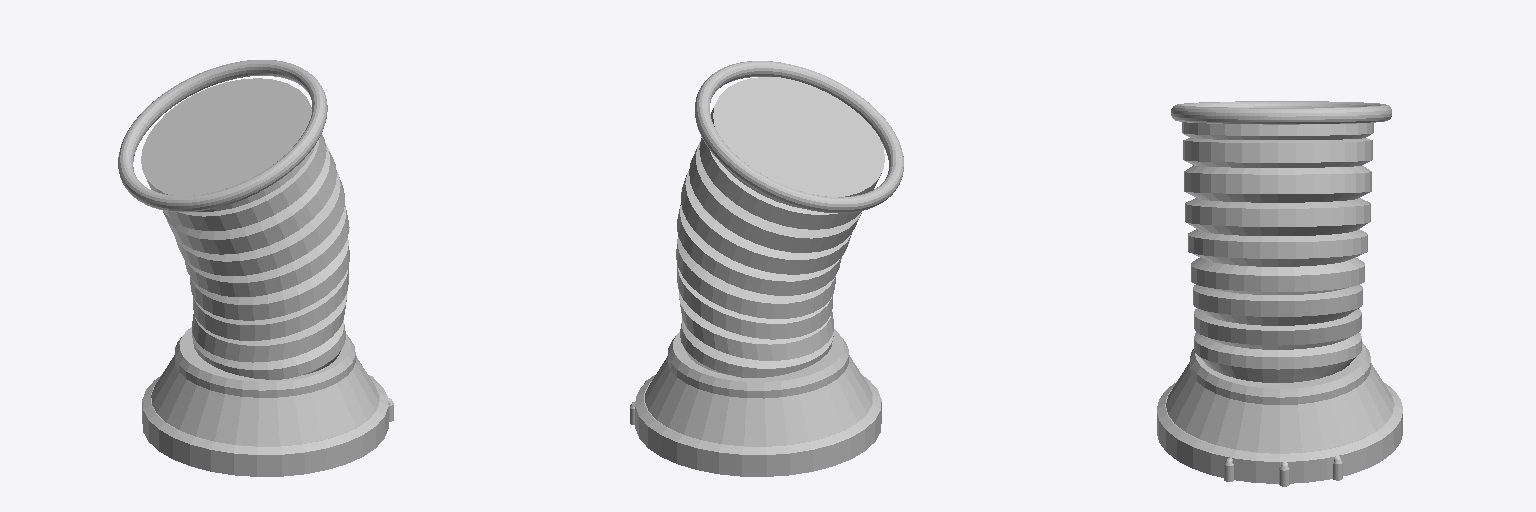
File: pata3_Goddard.obj
3 views of the same model, side by side, from view 1: azimuth 30°, elevation 25°; view 2: azimuth 150°, elevation 25°; view 3: azimuth 270°, elevation 25° (orthographic).
Visible parts, largest first — view 1: C_rculo_007_C_rculo_008, C_rculo_015_C_rculo_016, C_rculo_014_C_rculo_015, C_rculo_004, C_rculo_016_C_rculo_017; view 2: C_rculo_007_C_rculo_008, C_rculo_015_C_rculo_016, C_rculo_014_C_rculo_015, C_rculo_004, C_rculo_016_C_rculo_017; view 3: C_rculo_007_C_rculo_008, C_rculo_015_C_rculo_016, C_rculo_014_C_rculo_015, C_rculo_004, C_rculo_016_C_rculo_017, Cilindro_001_Cilindro_006.
Part boxes in pixels (bbox=[...]): C_rculo_007_C_rculo_008: bbox=[141, 78, 349, 379]; C_rculo_015_C_rculo_016: bbox=[151, 355, 378, 446]; C_rculo_014_C_rculo_015: bbox=[142, 375, 388, 476]; C_rculo_004: bbox=[118, 60, 327, 211]; C_rculo_016_C_rculo_017: bbox=[175, 327, 355, 397]; C_rculo_007_C_rculo_008: bbox=[676, 77, 884, 377]; C_rculo_015_C_rculo_016: bbox=[645, 355, 872, 446]; C_rculo_014_C_rculo_015: bbox=[635, 375, 881, 476]; C_rculo_004: bbox=[695, 61, 903, 212]; C_rculo_016_C_rculo_017: bbox=[668, 329, 848, 398]; C_rculo_007_C_rculo_008: bbox=[1182, 122, 1373, 382]; C_rculo_015_C_rculo_016: bbox=[1166, 362, 1393, 452]; C_rculo_014_C_rculo_015: bbox=[1157, 382, 1402, 483]; C_rculo_004: bbox=[1171, 101, 1391, 124]; C_rculo_016_C_rculo_017: bbox=[1190, 342, 1370, 404]; Cilindro_001_Cilindro_006: bbox=[1224, 456, 1342, 486].
Size of the model in its own units: 1.17 by 1.58 by 1.03.